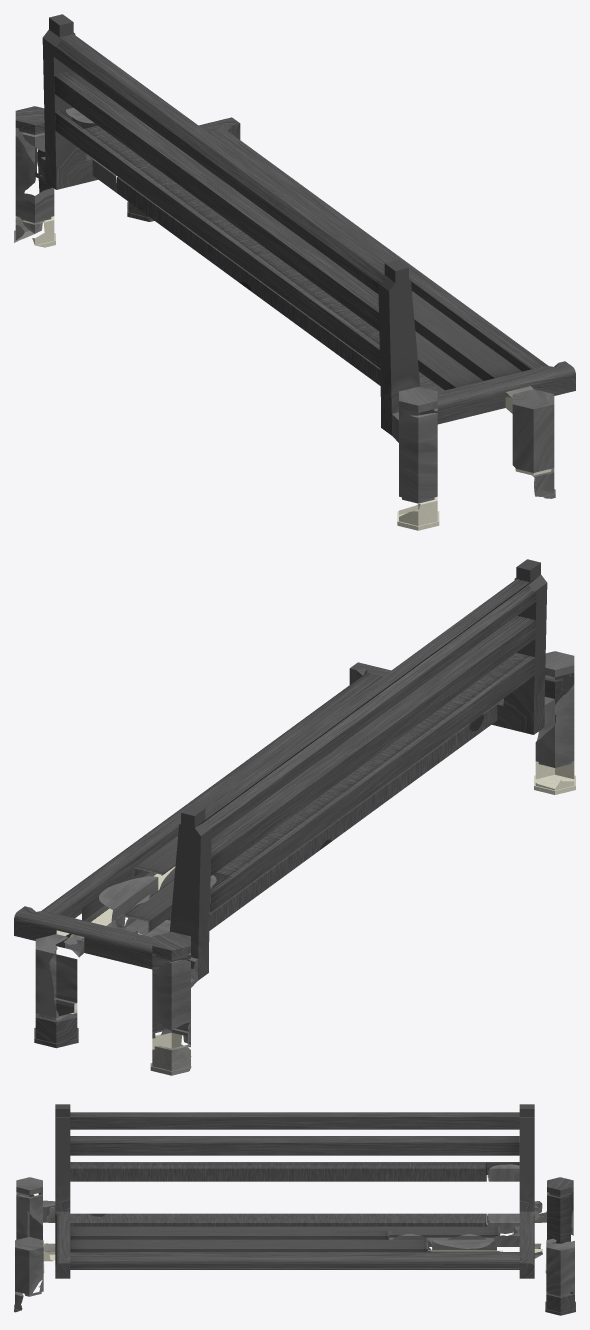
The model's file is Bench.obj.
The picture shows the model from 3 angles, top to bottom: view 1: azimuth 30°, elevation 25°; view 2: azimuth 150°, elevation 25°; view 3: azimuth 270°, elevation 25°; orthographic projection. The views are drawn at different scales.
Visible parts, largest first — view 1: Cube_Cube.001; view 2: Cube_Cube.001; view 3: Cube_Cube.001.
Boxes of the visible parts, <box> form: Cube_Cube.001: <box>14,14,575,530</box>; Cube_Cube.001: <box>14,559,575,1075</box>; Cube_Cube.001: <box>14,1104,575,1315</box>.
Bounding box in the file's own units: 1.29 × 1.49 × 4.62.
1 material, 1 textured.
